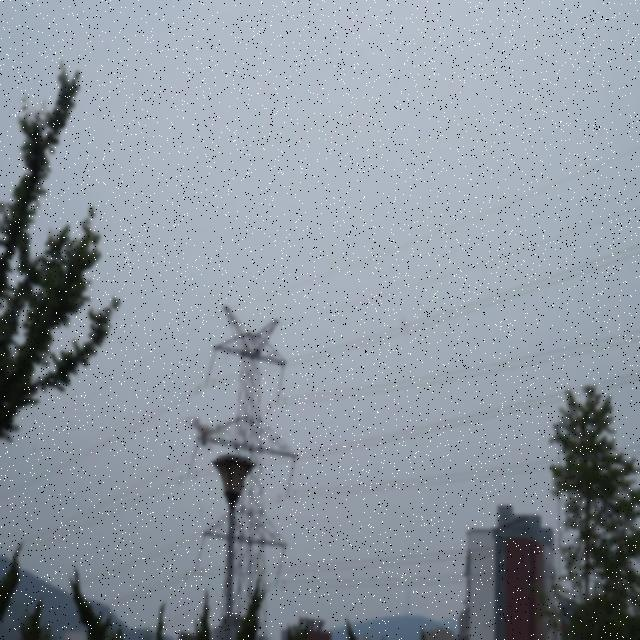UAV: (183, 417, 225, 452)
